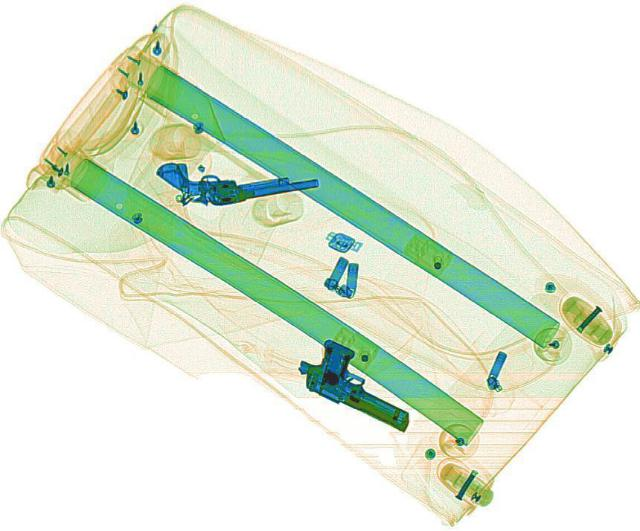Gun: (284, 333, 436, 433), (150, 138, 320, 213)
